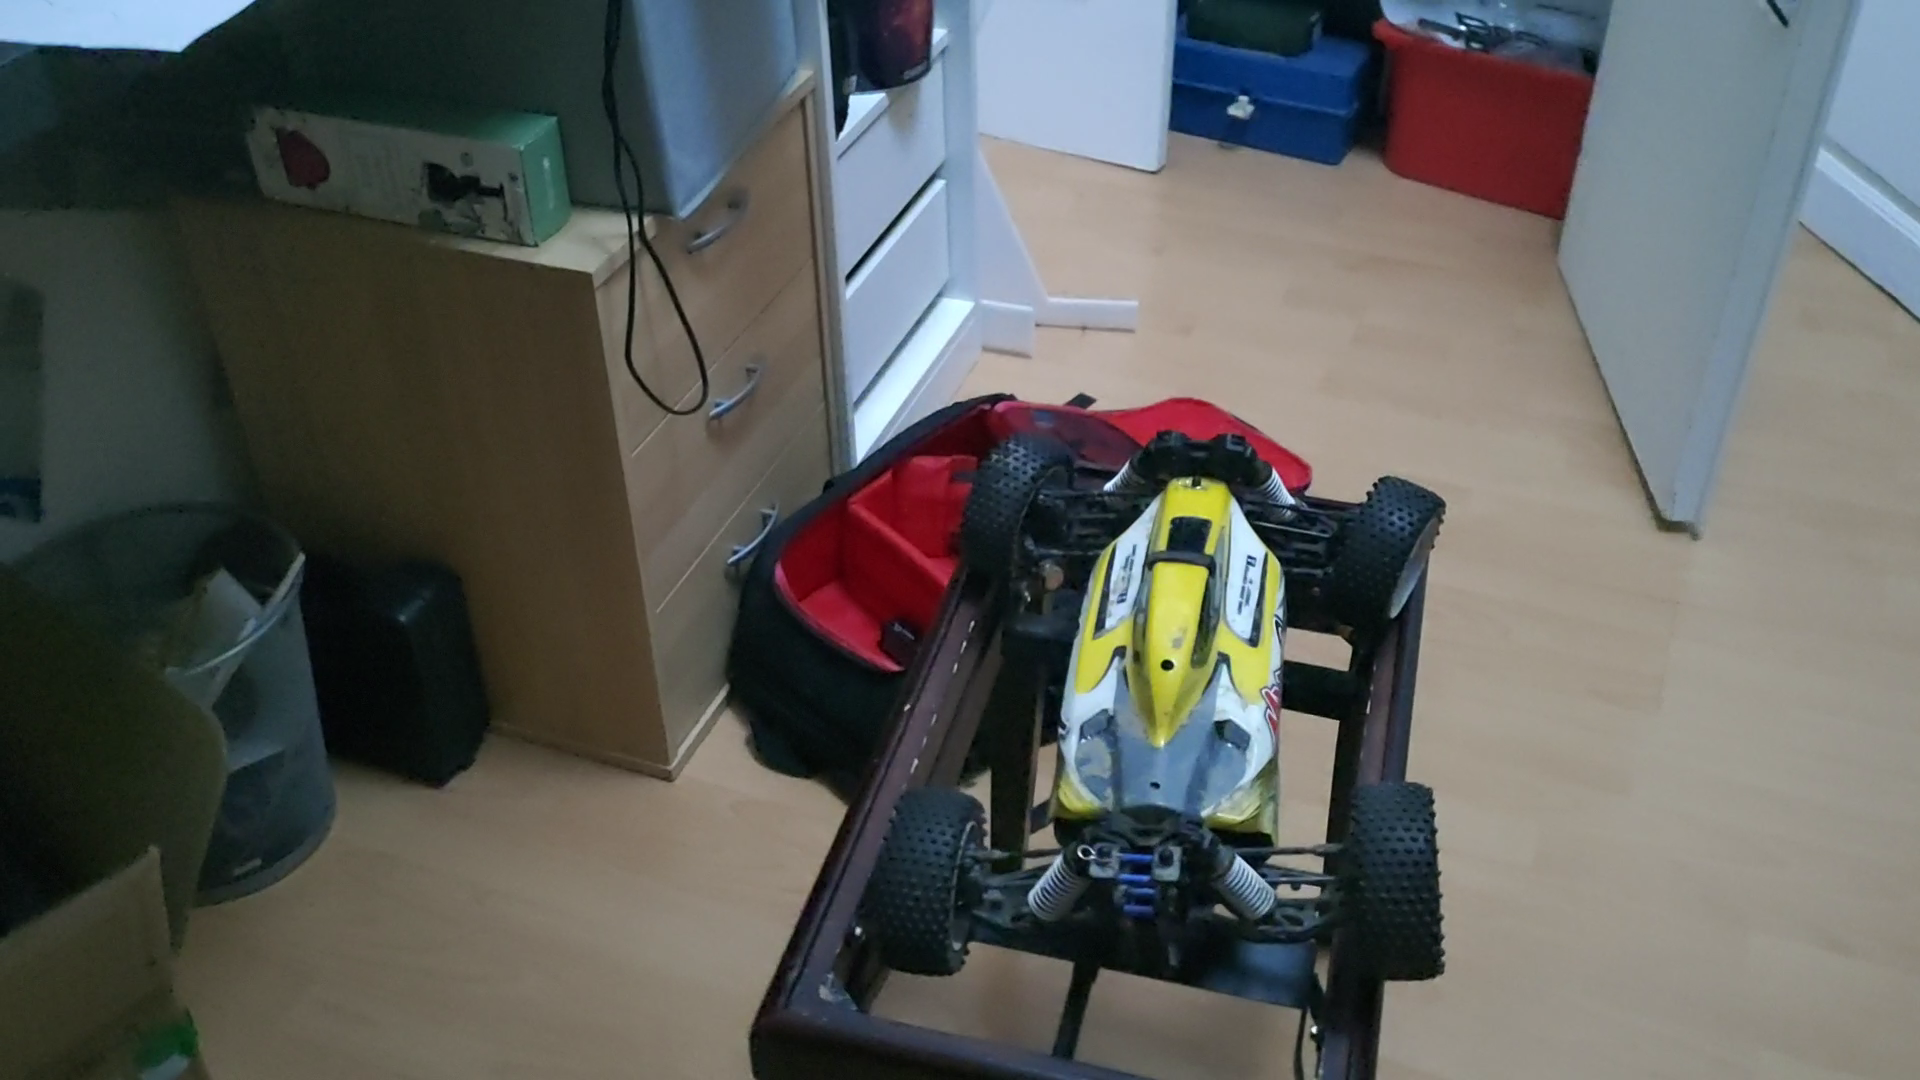buggy: (868, 438, 1452, 984)
